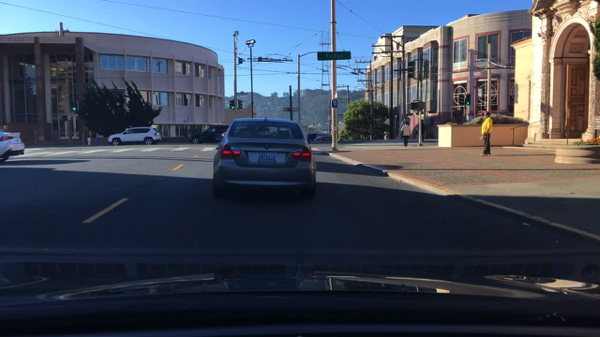car: (211, 118, 317, 200), (106, 126, 162, 146), (188, 124, 229, 144), (0, 131, 25, 162), (312, 133, 333, 144), (306, 132, 317, 144)
person: (480, 111, 492, 155), (401, 121, 412, 148), (418, 119, 426, 143), (1, 125, 9, 133)
traffic light: (405, 60, 415, 79), (422, 60, 430, 79), (464, 95, 471, 106), (70, 101, 77, 111), (410, 102, 418, 110), (229, 100, 235, 110), (237, 100, 243, 110), (459, 94, 464, 106)
traffic sign: (317, 51, 350, 60), (283, 108, 300, 111)
